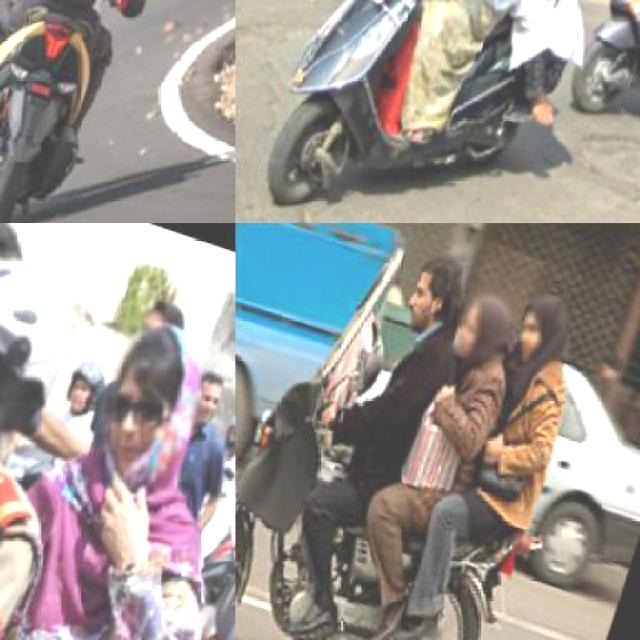With Helmet: (0, 227, 98, 478)
Without Helmet: (86, 306, 222, 500), (400, 234, 474, 335), (451, 269, 526, 366), (512, 280, 582, 371)
